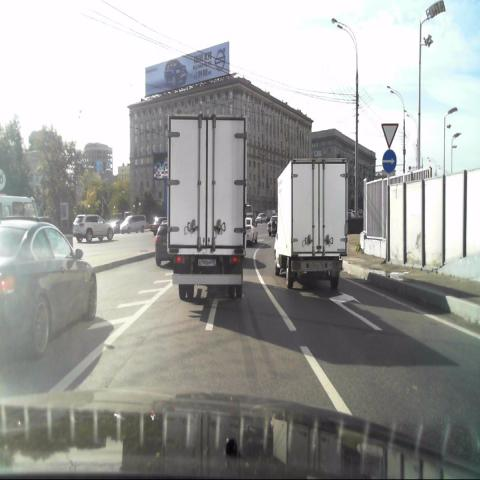4_1_2_1: (382, 148, 397, 175)
